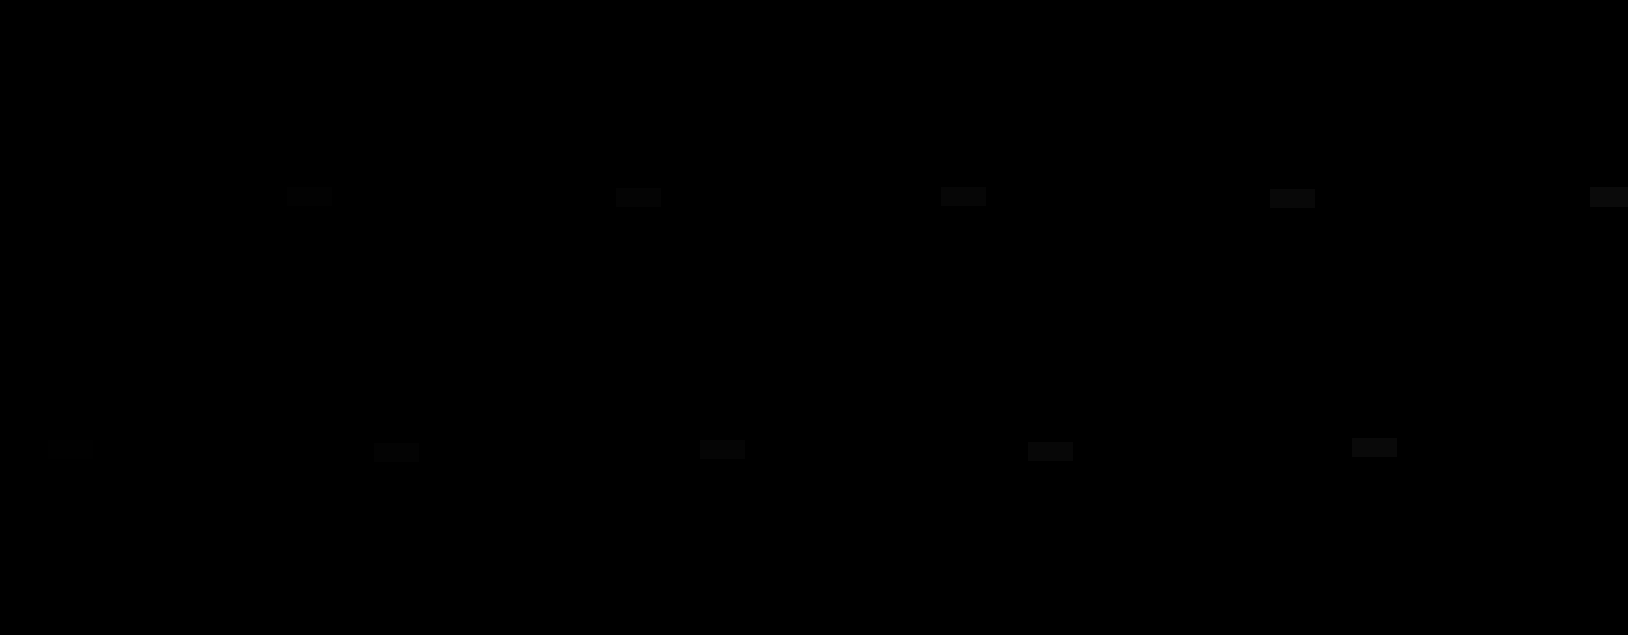light: (287, 187, 332, 206), (616, 188, 661, 208), (941, 187, 986, 206), (48, 440, 93, 459), (374, 443, 419, 462), (700, 440, 745, 459), (1270, 189, 1315, 208), (1352, 438, 1398, 457), (1028, 442, 1073, 461), (1590, 187, 1628, 208)
